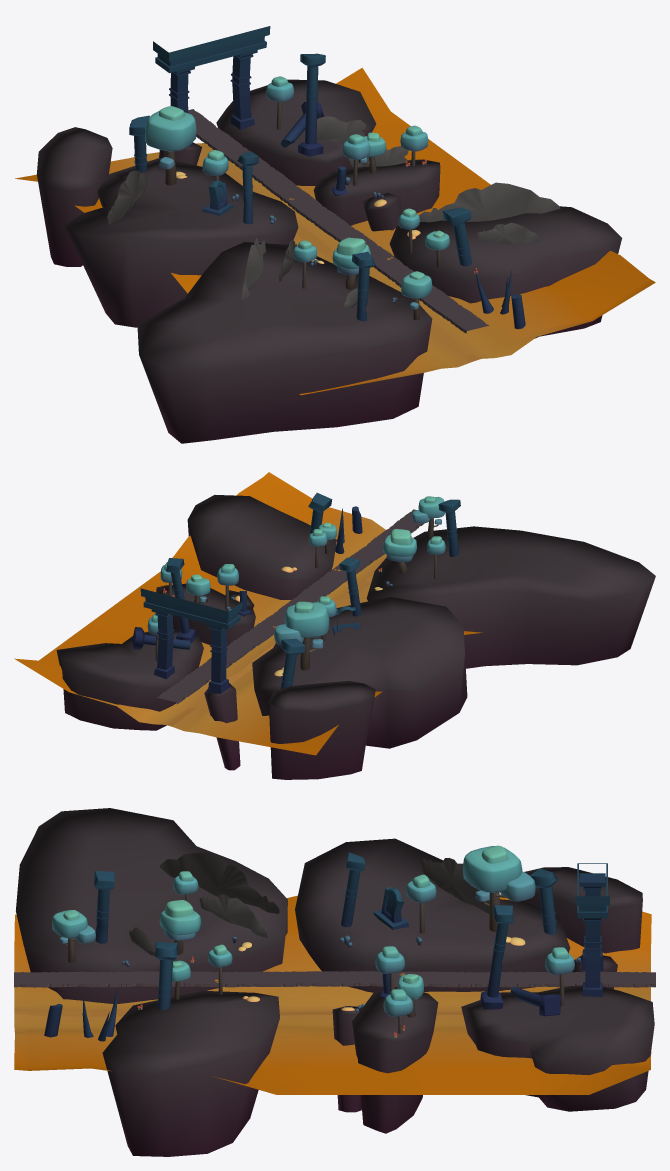
File: stage3a.gltf
3 views of the same model, one above another, from view 1: azimuth 30°, elevation 25°; view 2: azimuth 150°, elevation 25°; view 3: azimuth 270°, elevation 25° (orthographic). The views are drawn at different scales.
Visible parts, largest first — view 1: stage3a_GEO; view 2: stage3a_GEO; view 3: stage3a_GEO.
Part boxes in pixels (<box>): stage3a_GEO: <box>15,26,655,443</box>; stage3a_GEO: <box>14,472,655,779</box>; stage3a_GEO: <box>14,808,655,1156</box>.
Size of the model in its own units: 20112 by 7438 by 21000.
Materials: 2 (2 with a texture image).
